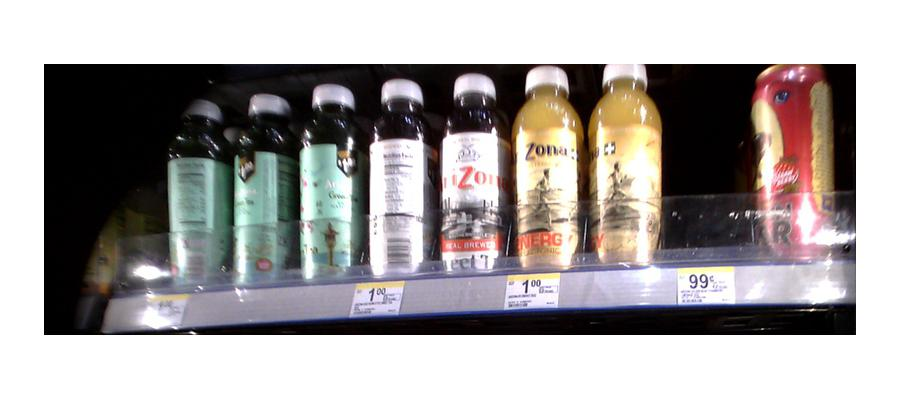bottle: (757, 61, 837, 263), (588, 65, 662, 266), (513, 64, 583, 271), (363, 78, 433, 280), (439, 71, 507, 275), (295, 84, 360, 275), (164, 93, 227, 290), (230, 93, 292, 287)
